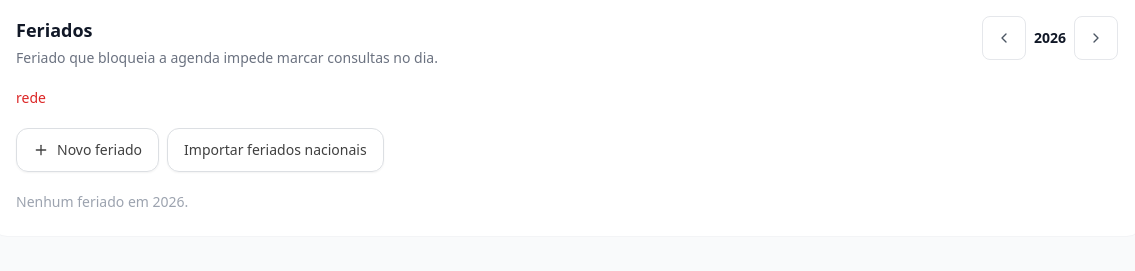
Scenario: HolidaysSettings (MIG-05) › erro de carga some quando a recarga seguinte dá certo
Expected: the message reads "rede", x1=16 y1=88 x2=46 y2=107
Click the button named "Próximo ano". click: (1096, 38)
box: x1=1074 y1=16 x2=1118 y2=60
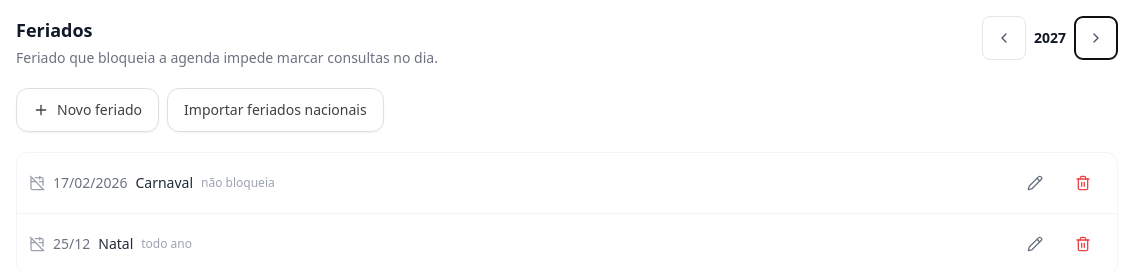
Result: the text "Natal" is shown at x1=98 y1=234 x2=133 y2=254
Result: the message "rede" is gone
